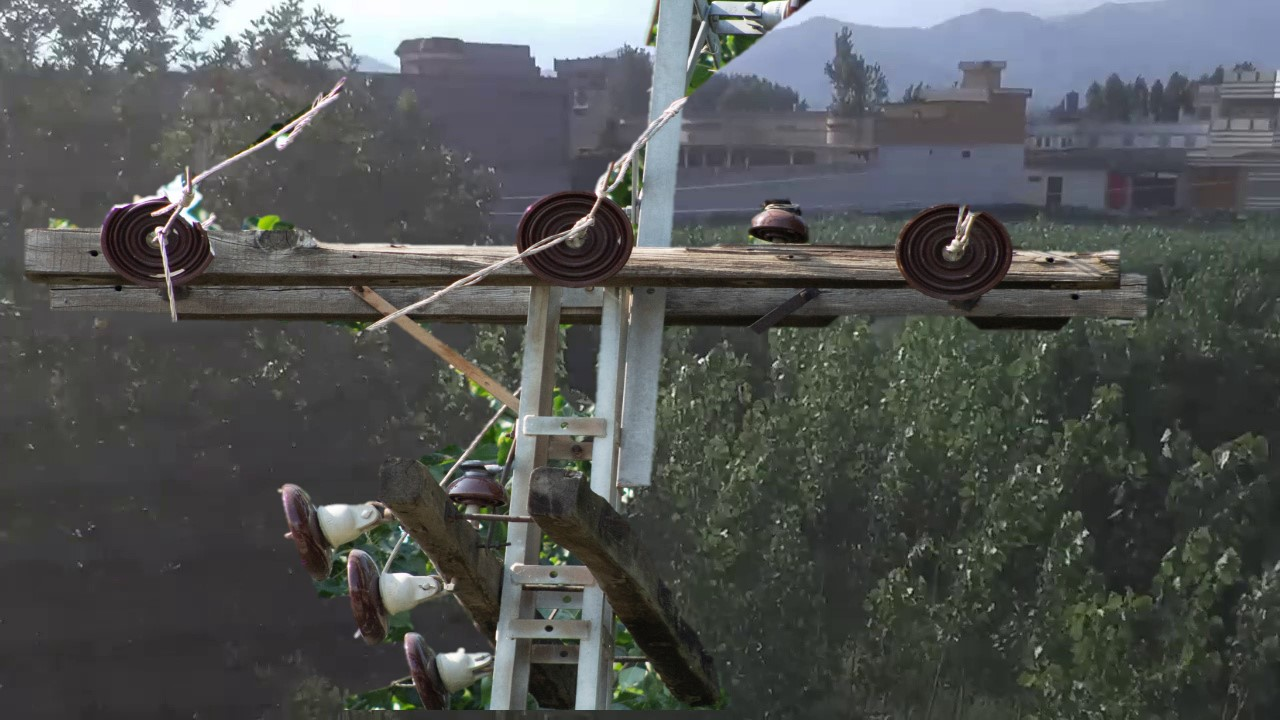defect_disc: (100, 188, 220, 290)
insulator_disc: (891, 195, 1021, 309), (512, 184, 637, 296), (275, 470, 341, 589), (390, 624, 477, 705), (345, 541, 404, 649)
insulator_pin: (445, 453, 511, 515), (749, 189, 813, 248)
